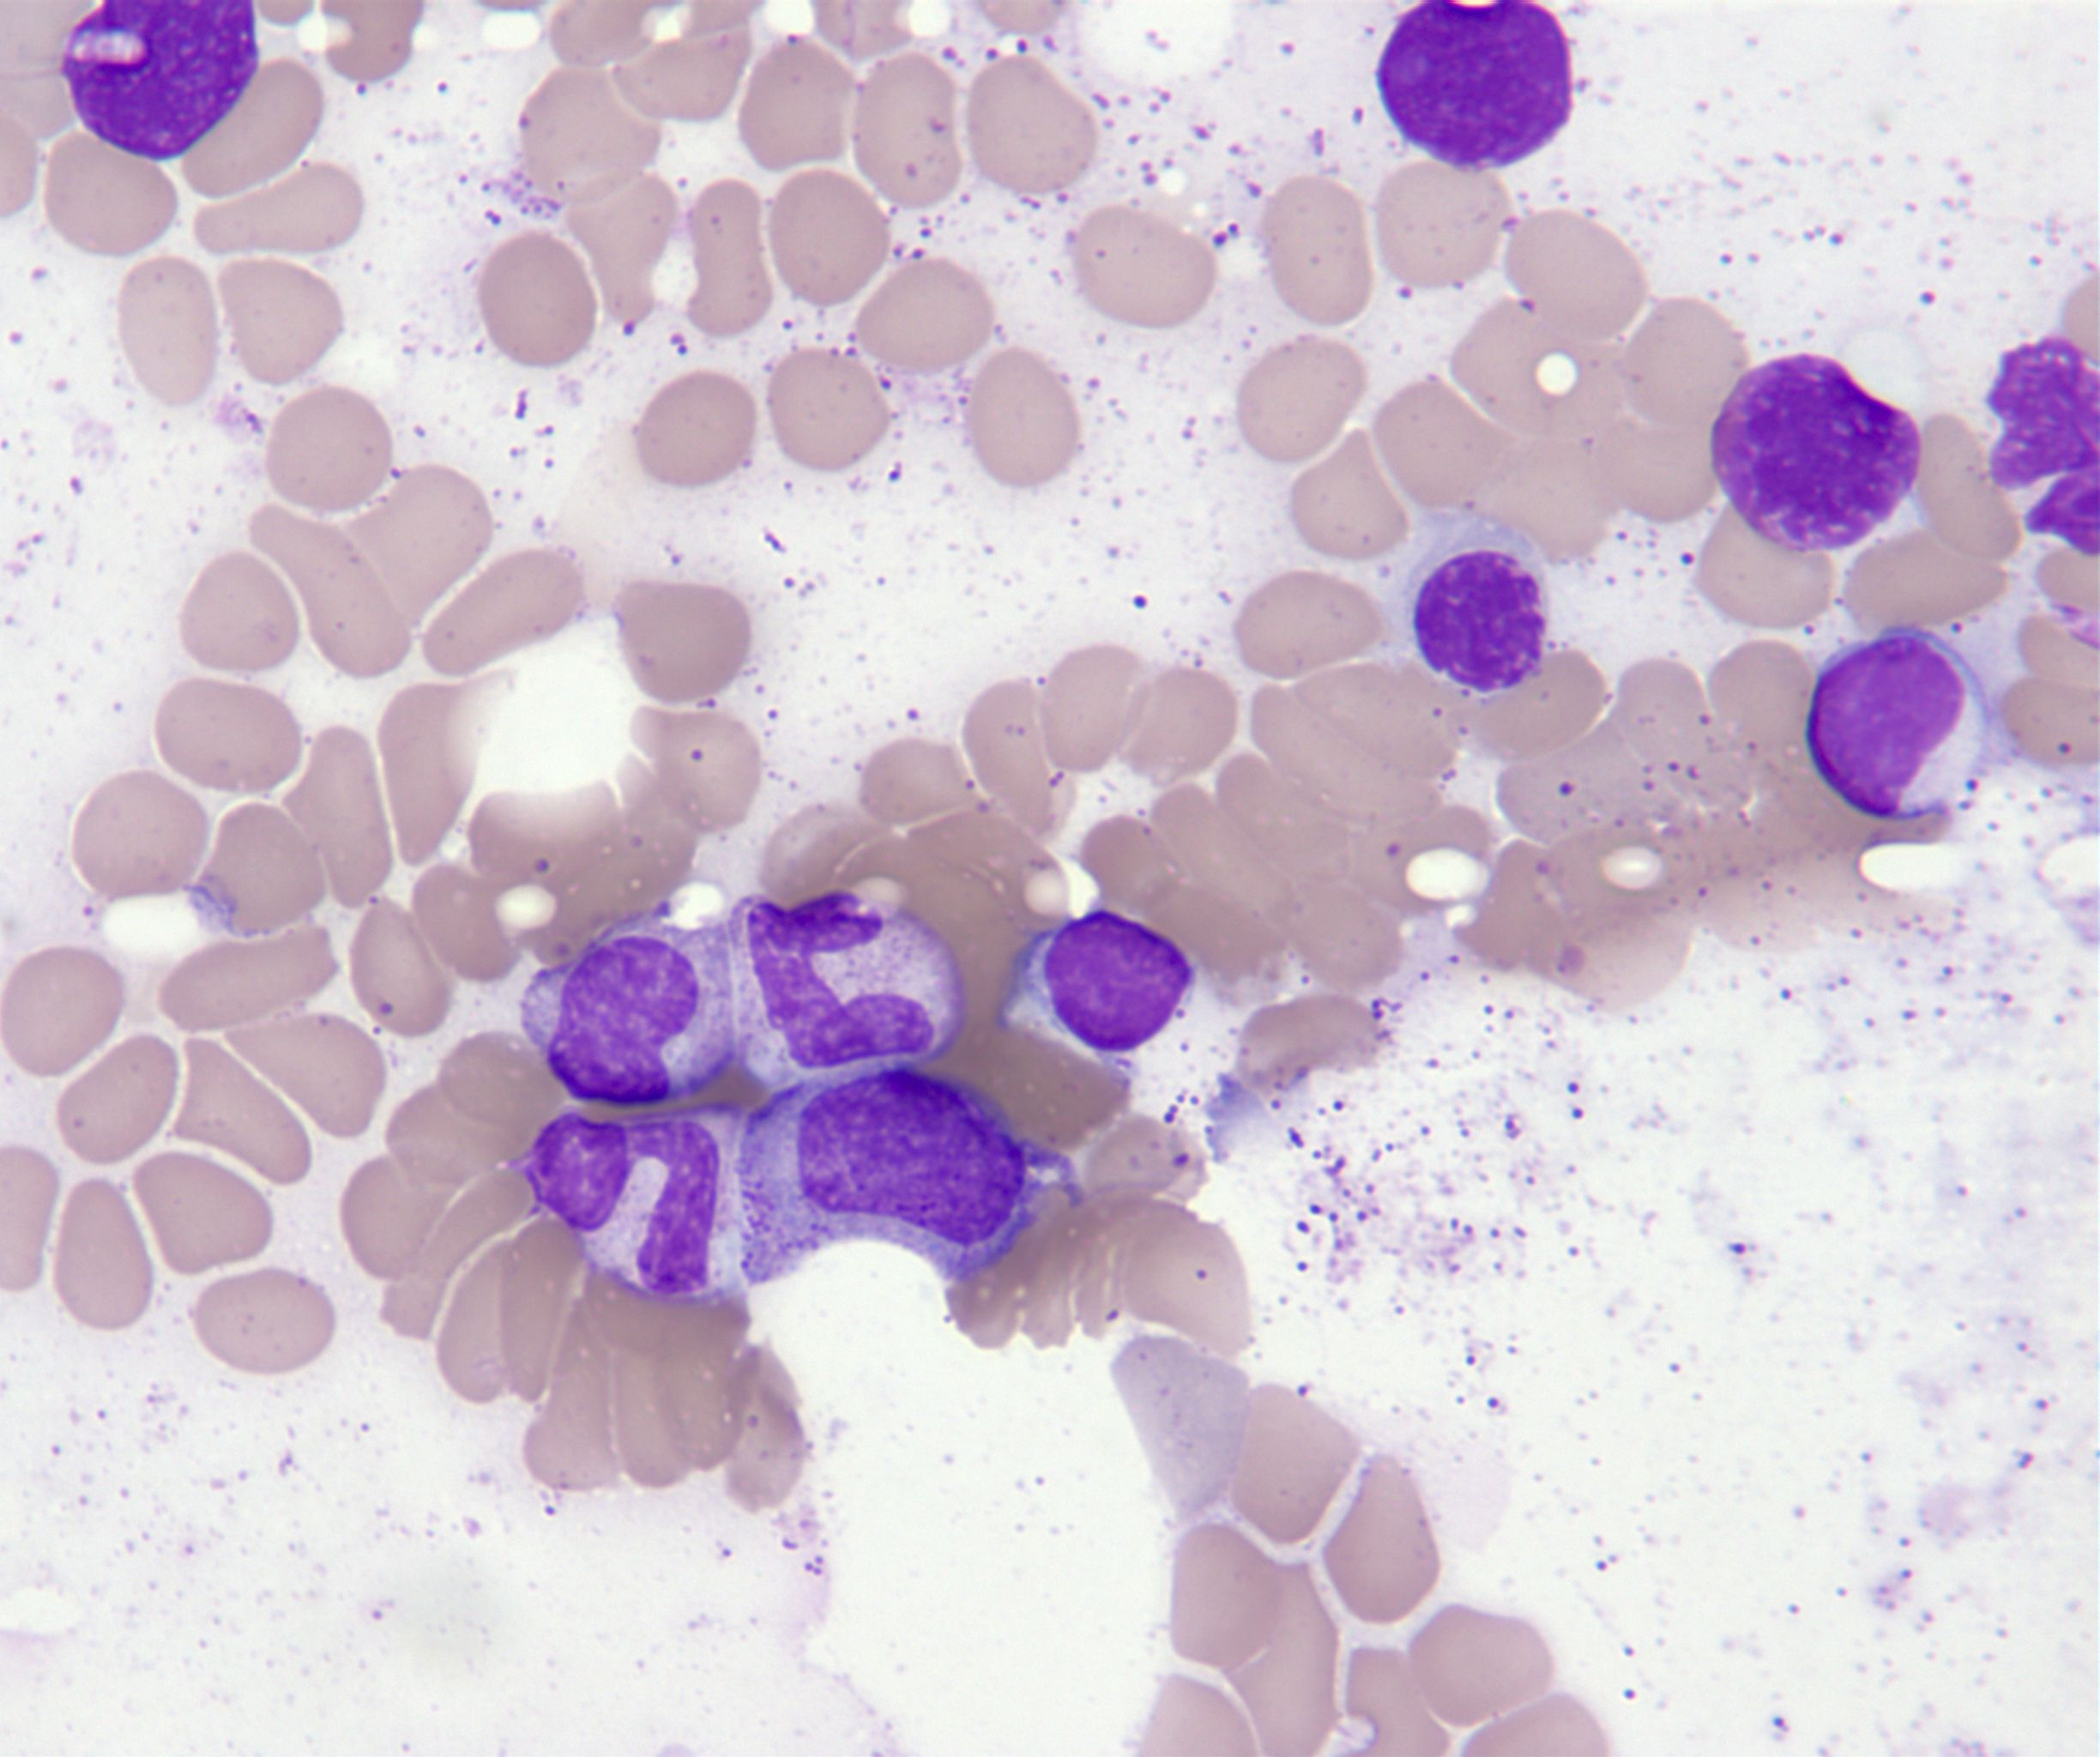24: (1392, 508, 1552, 693)
3: (736, 1068, 1085, 1284), (520, 913, 740, 1108)
32: (1805, 625, 1985, 818), (996, 909, 1193, 1054)
5: (729, 892, 965, 1094), (499, 1115, 747, 1305)
x: (1713, 354, 1920, 550), (1376, 2, 1572, 173), (61, 0, 262, 161), (1988, 335, 2100, 558)
